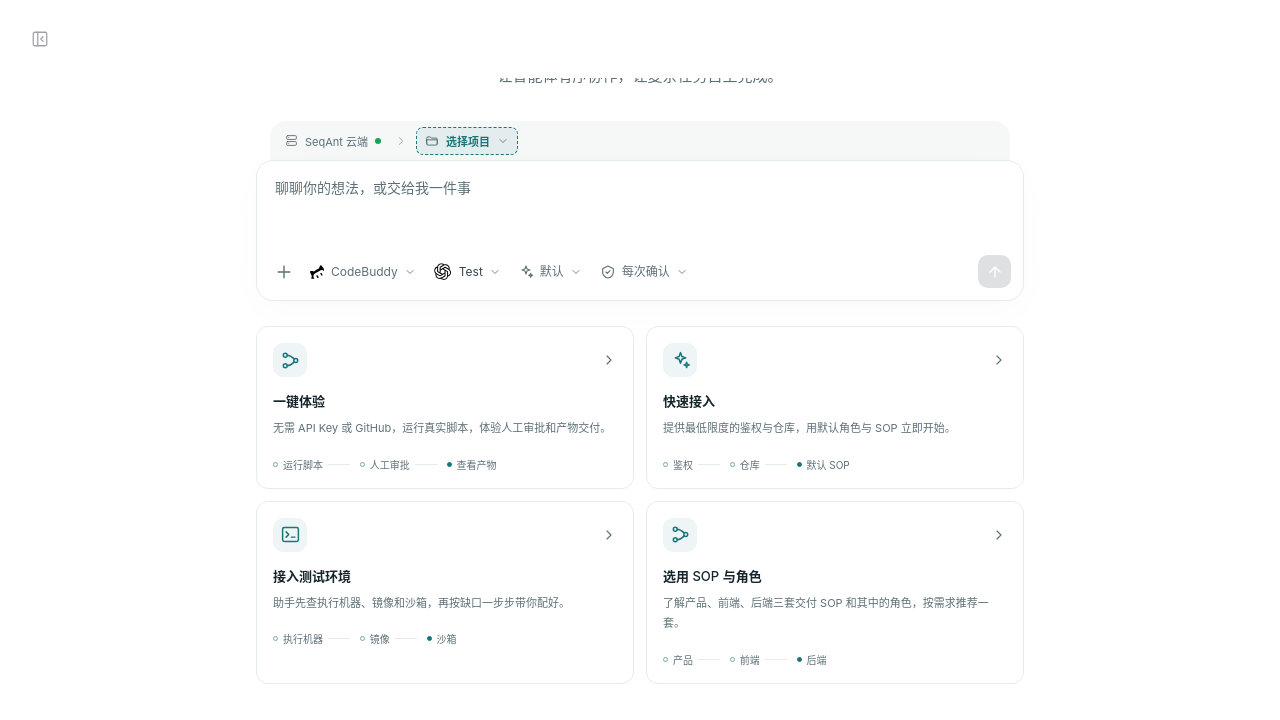
App › renders the ready empty state and opens primary controls
Later steps or results of the test are not shown.
(page scrolled)
Expected: the text "快速接入" is shown, [663,391,715,412]
Press k
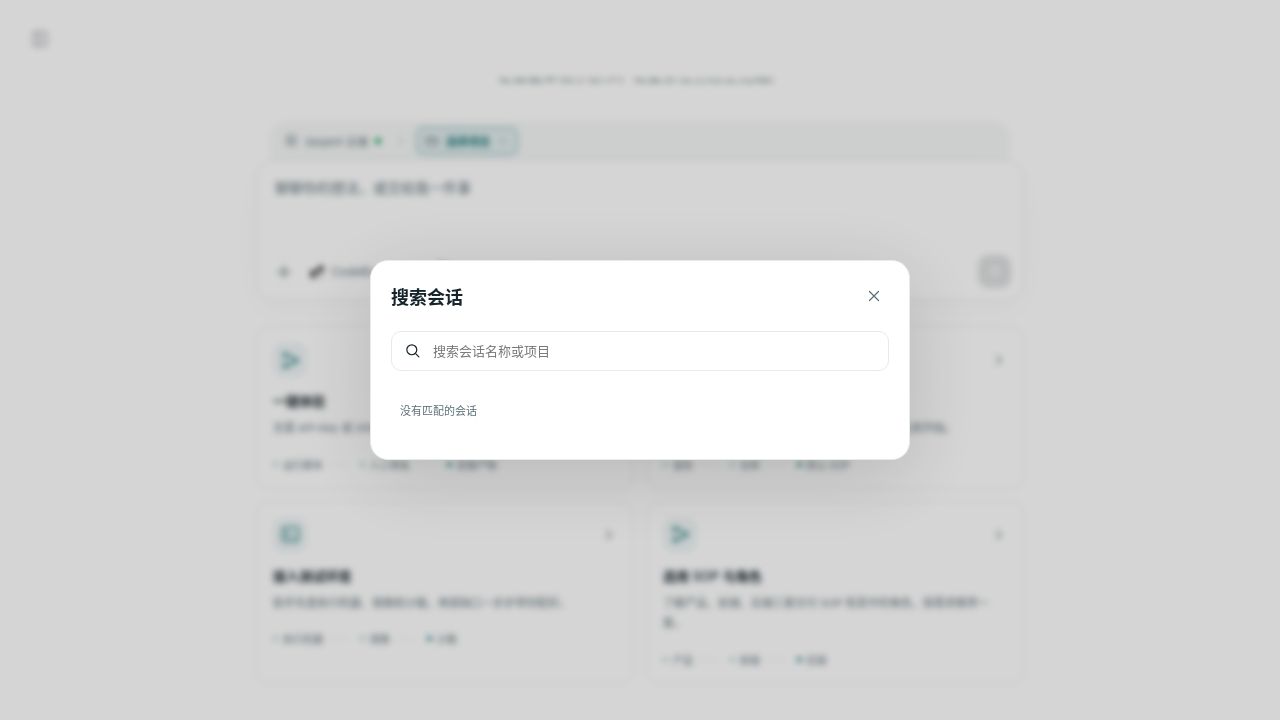
Result: the dialog is shown at [370,260,910,460]
Press Escape
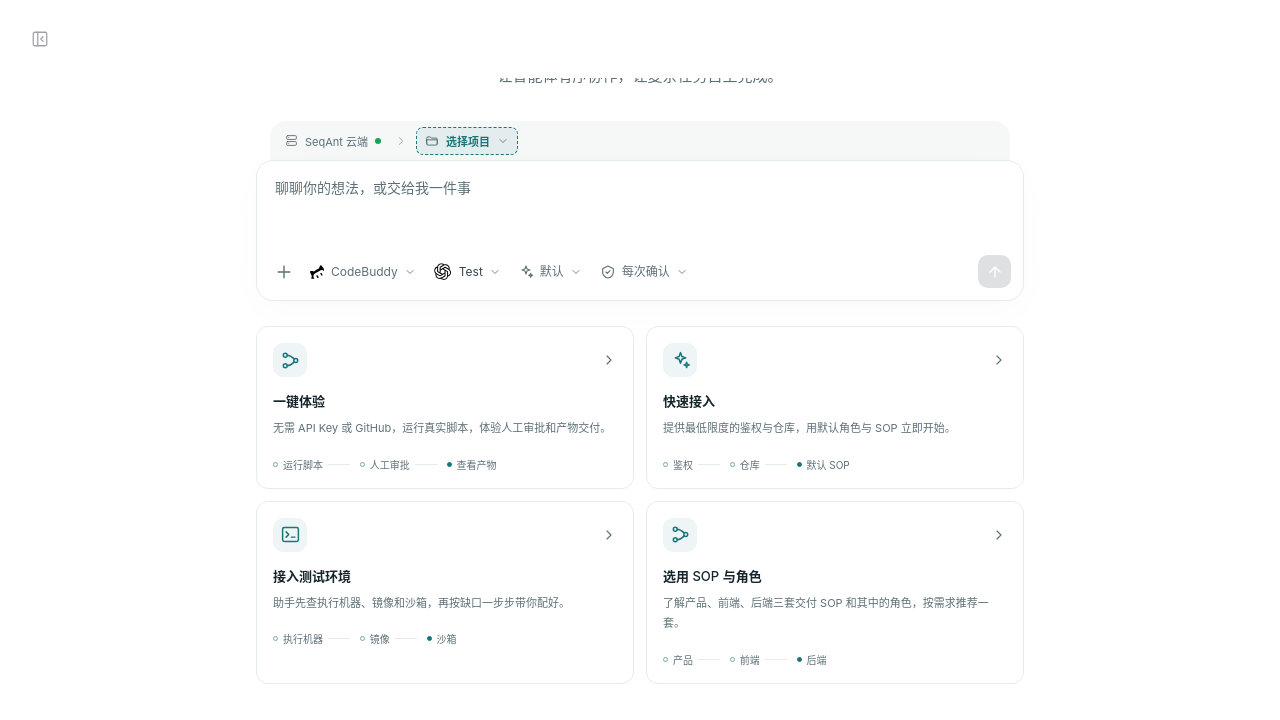
Click the button labelled "选择项目" at (467, 140), box [416,126,518,154]
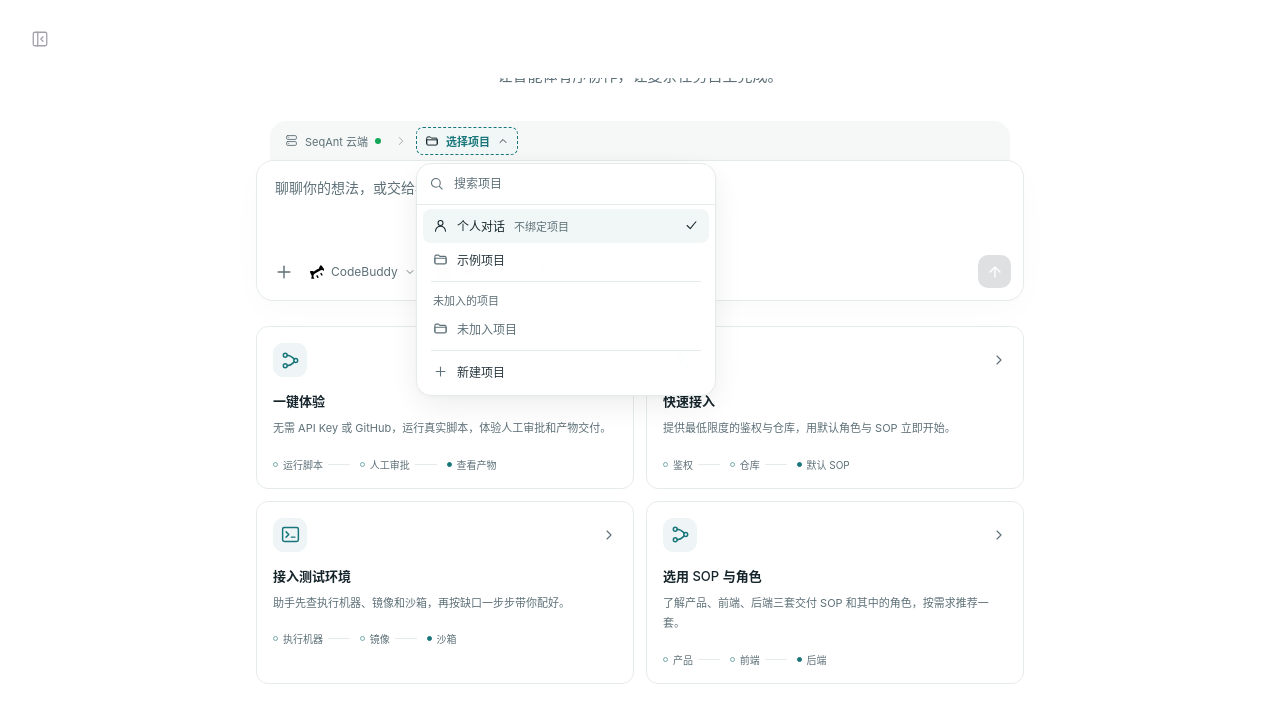
Result: the list "项目" is shown at [417,204,715,394]
